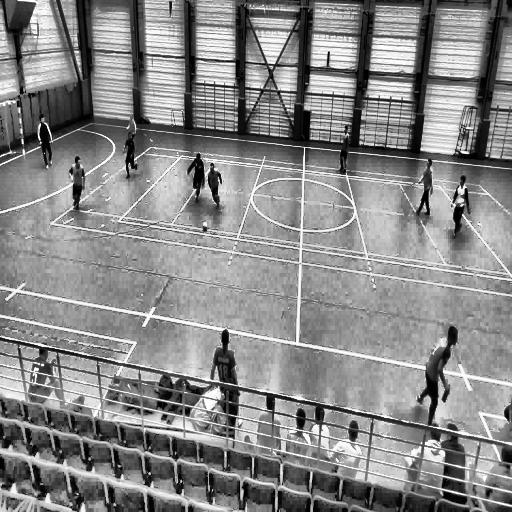ball: (202, 220, 208, 230)
player: (415, 324, 457, 424), (450, 174, 470, 240), (413, 158, 434, 218), (187, 152, 206, 204), (37, 113, 54, 168), (69, 154, 85, 211), (206, 162, 222, 210), (124, 122, 137, 179), (337, 123, 349, 174), (124, 111, 138, 148)
